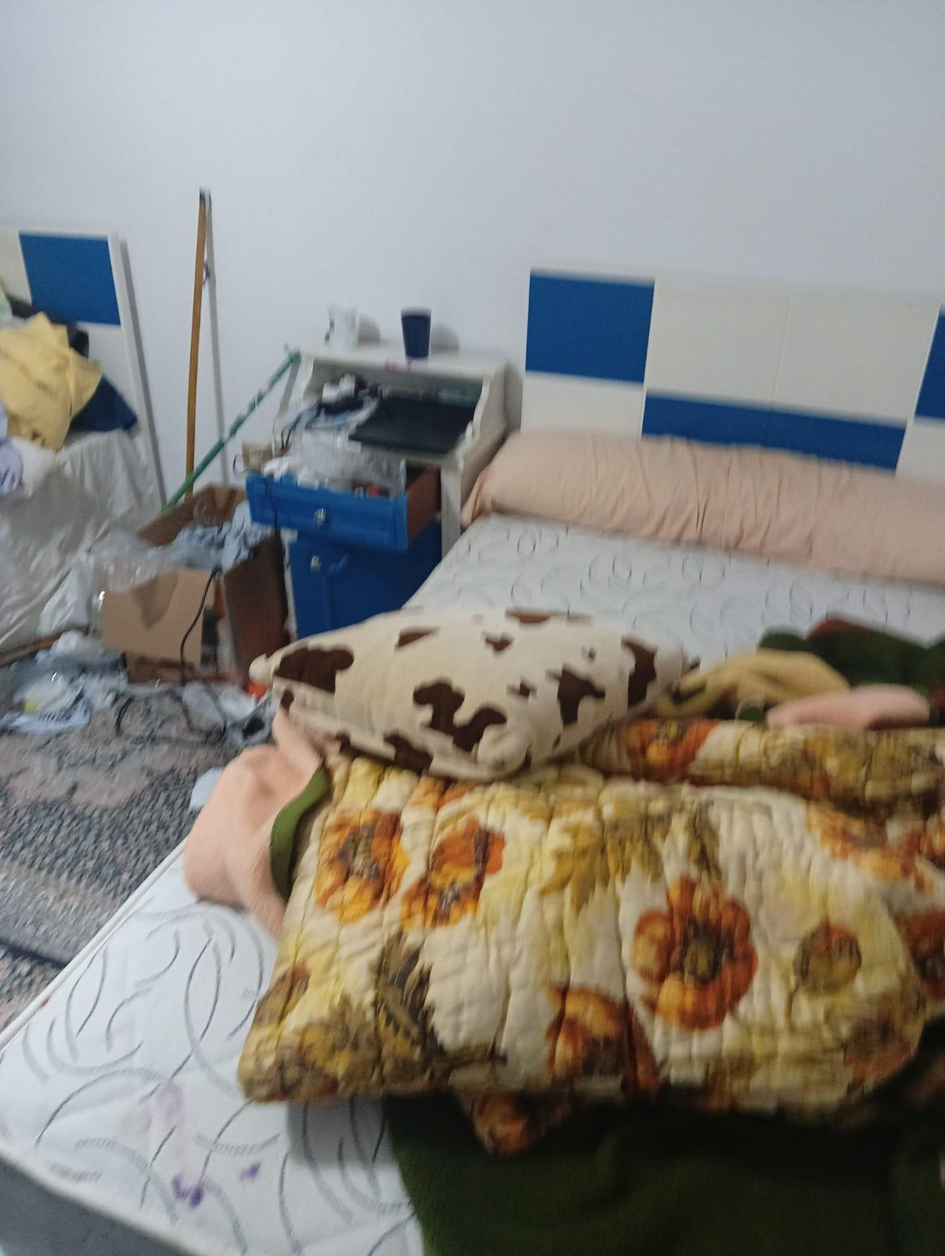cup: (401, 309, 430, 359), (325, 305, 357, 349)
